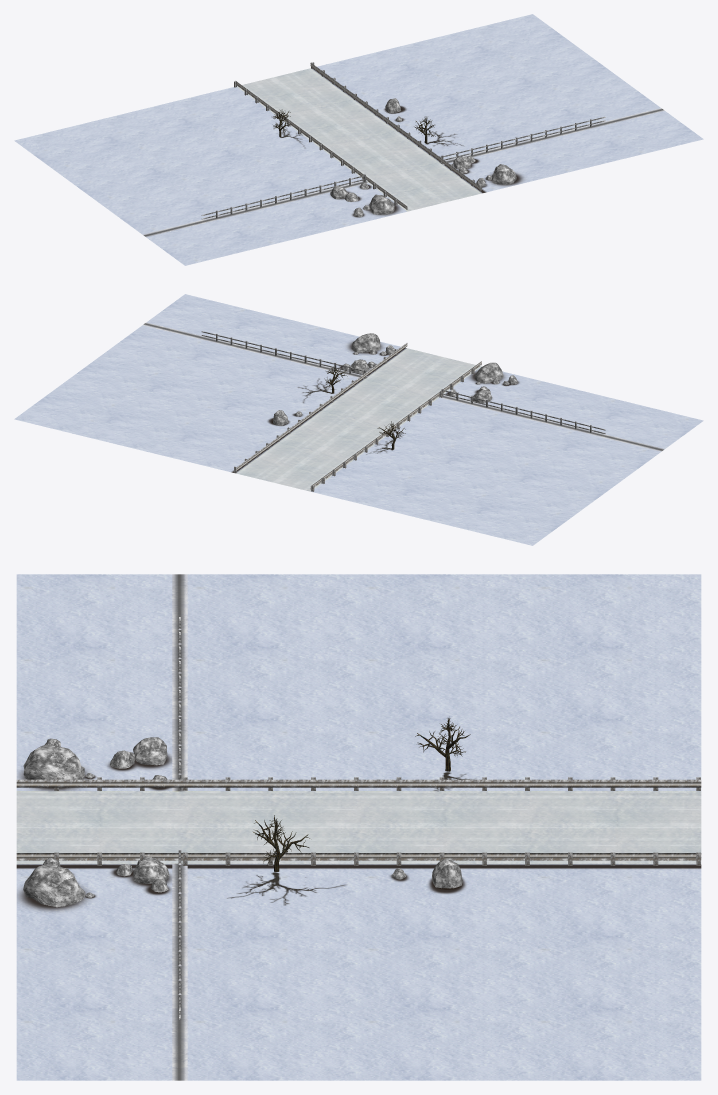
The model's file is end2.FBX.
The picture shows the model from 3 angles, top to bottom: view 1: azimuth 30°, elevation 25°; view 2: azimuth 150°, elevation 25°; view 3: azimuth 270°, elevation 25°; orthographic projection. The views are drawn at different scales.
Parts seen in each view (by area): view 1: end2, road001, boundry1, rock, relling001, Box038; view 2: end2, road001, boundry1, rock, relling001, Box038; view 3: end2, road001, relling001, rock, boundry1, Box038.
Part boxes in pixels (box(x1,y1,x2,y2)): end2: box(14, 14, 703, 265); road001: box(237, 68, 481, 211); boundry1: box(142, 108, 664, 237); rock: box(330, 98, 516, 216); relling001: box(234, 62, 481, 209); Box038: box(272, 109, 435, 143); end2: box(14, 294, 703, 545); road001: box(236, 348, 481, 491); boundry1: box(143, 322, 664, 451); rock: box(273, 333, 517, 425); relling001: box(234, 343, 481, 491); Box038: box(324, 366, 405, 449); end2: box(16, 574, 701, 1080); road001: box(16, 791, 701, 863); relling001: box(16, 777, 701, 865); rock: box(23, 737, 462, 907); boundry1: box(172, 574, 187, 1080); Box038: box(253, 718, 470, 871).
Size of the model in its own units: 140 by 8.74 by 80.
